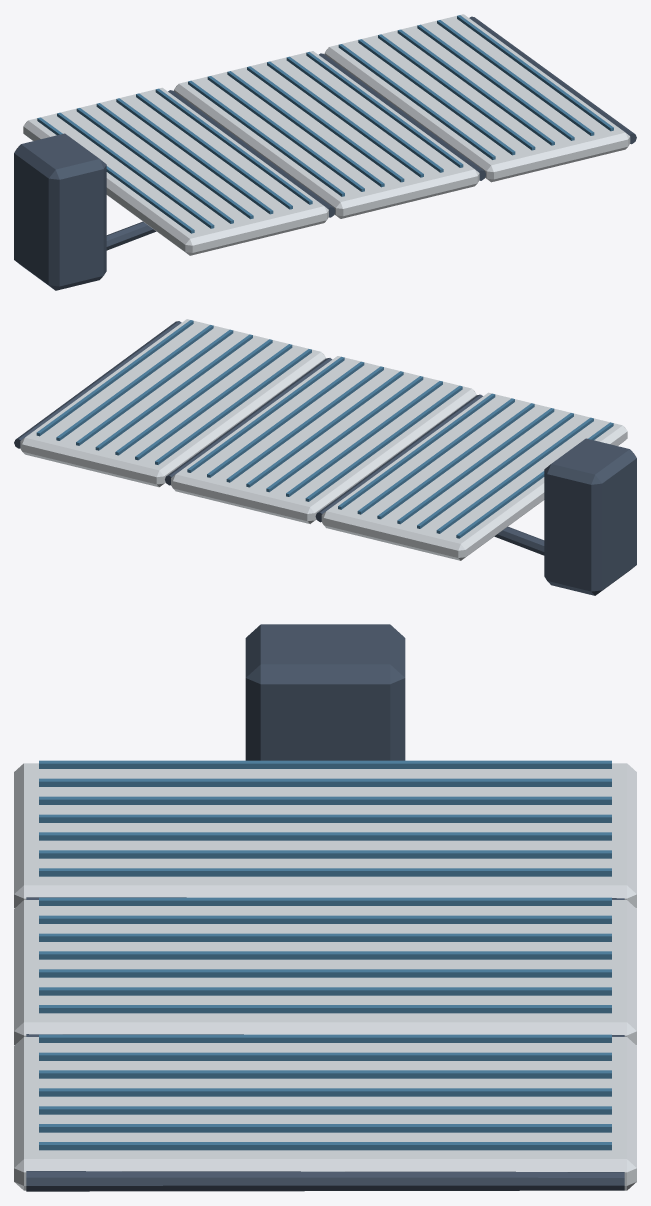
The picture shows the model from 3 angles, top to bottom: view 1: azimuth 30°, elevation 25°; view 2: azimuth 150°, elevation 25°; view 3: azimuth 270°, elevation 25°; orthographic projection. The views are drawn at different scales.
Visible parts, largest first — view 1: RE-005 Three-segment radiator wing batched; view 2: RE-005 Three-segment radiator wing batched; view 3: RE-005 Three-segment radiator wing batched.
Boxes of the visible parts, bbox=[...] form: RE-005 Three-segment radiator wing batched: bbox=[14, 14, 636, 290]; RE-005 Three-segment radiator wing batched: bbox=[14, 319, 636, 595]; RE-005 Three-segment radiator wing batched: bbox=[14, 624, 636, 1191].
Size of the model in its own units: 2.27 by 0.5 by 1.25.
